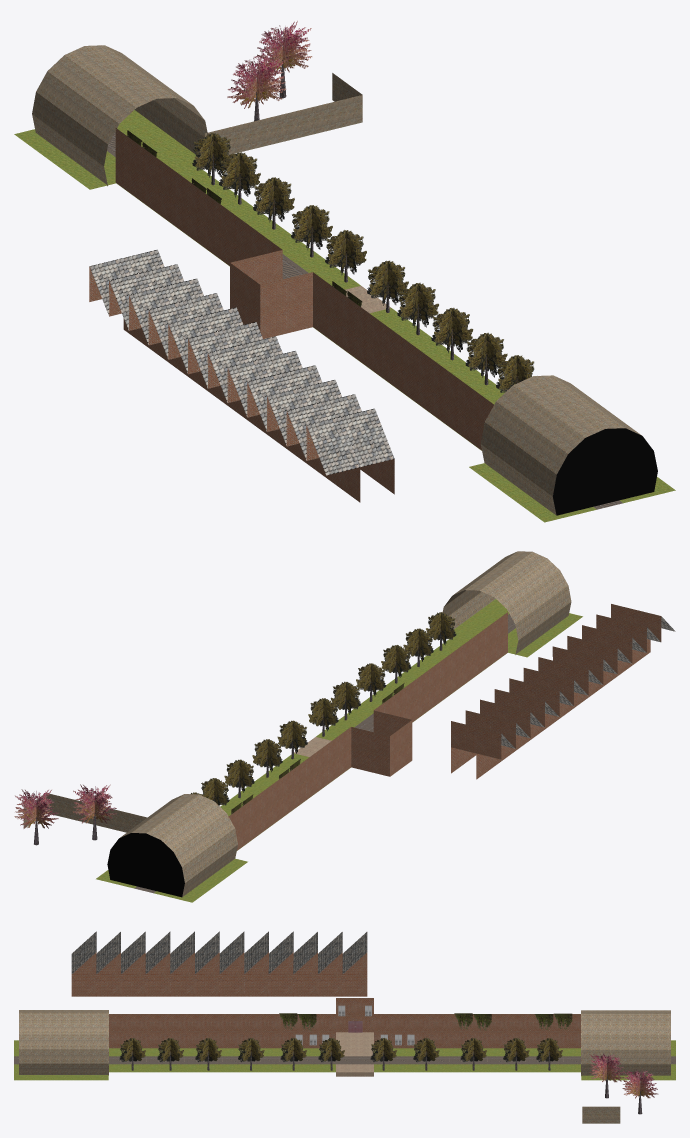
The model's file is trainStation.glb.
3 views of the same model, one above another, from view 1: azimuth 30°, elevation 25°; view 2: azimuth 150°, elevation 25°; view 3: azimuth 270°, elevation 25° (orthographic). The views are drawn at different scales.
Parts seen in each view (by area): view 1: Circle, Circle.001, wall2.176, wall2.172, tree3.019, tree3.020, wall2.180, wall2.177, wall2.193, wall2.190, wall2.179, wall2.189 (+26 smaller); view 2: Circle.001, Circle, tree3.019, tree3.020, wall2.193, wall2.187, wall2.192, tree1.034, wall2.177, wall2.178, tree1.036, wall2.180 (+15 smaller); view 3: Circle, Circle.001, wall2.182, wall2.173, wall2.187, wall2.172, wall2.184, wall2.175, wall2.117, wall2.186, wall2.183, wall2.174 (+42 smaller).
Boxes of the visible parts, x1,y1,x2,y2 form: Circle: [480, 375, 657, 515]; Circle.001: [32, 45, 207, 186]; wall2.176: [306, 417, 360, 502]; wall2.172: [341, 408, 394, 494]; tree3.019: [227, 53, 286, 121]; tree3.020: [253, 21, 312, 98]; wall2.180: [227, 359, 281, 444]; wall2.177: [286, 402, 340, 487]; wall2.193: [89, 258, 143, 343]; wall2.190: [148, 301, 202, 386]; wall2.179: [247, 373, 301, 459]; wall2.189: [168, 315, 222, 401]; Circle.001: [107, 794, 237, 897]; Circle: [442, 551, 571, 654]; tree3.019: [73, 784, 116, 840]; tree3.020: [14, 789, 58, 845]; wall2.193: [476, 727, 515, 779]; wall2.187: [451, 721, 476, 773]; wall2.192: [490, 716, 529, 768]; tree1.034: [356, 663, 386, 701]; wall2.177: [621, 620, 660, 672]; wall2.178: [607, 631, 646, 683]; tree1.036: [308, 698, 338, 736]; wall2.180: [578, 652, 617, 704]; Circle: [19, 1010, 108, 1075]; Circle.001: [581, 1010, 670, 1075]; wall2.182: [219, 942, 244, 996]; wall2.173: [145, 942, 170, 996]; wall2.187: [342, 942, 367, 996]; wall2.172: [71, 942, 96, 996]; wall2.184: [268, 942, 293, 996]; wall2.175: [195, 942, 219, 996]; wall2.117: [121, 942, 145, 996]; wall2.186: [318, 942, 342, 996]; wall2.183: [244, 942, 268, 996]; wall2.174: [170, 942, 194, 996].
Size of the model in its own units: 67.79 by 14.21 by 140.
Materials: 14 (13 with a texture image).
